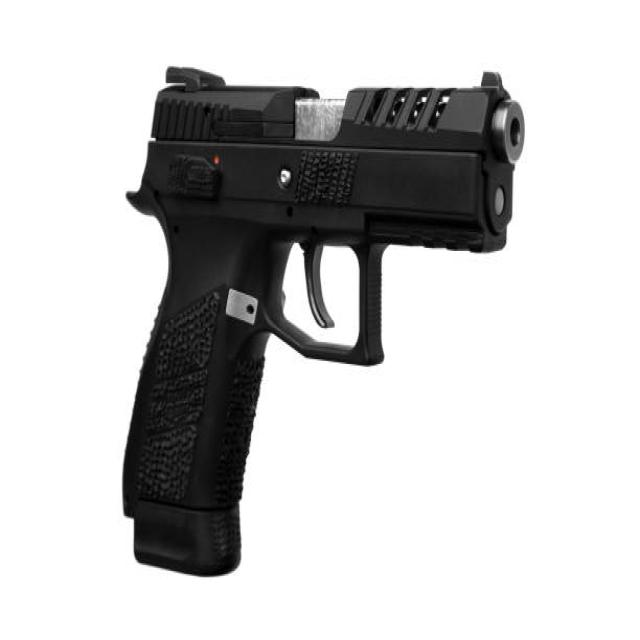pistol: (114, 59, 529, 582)
